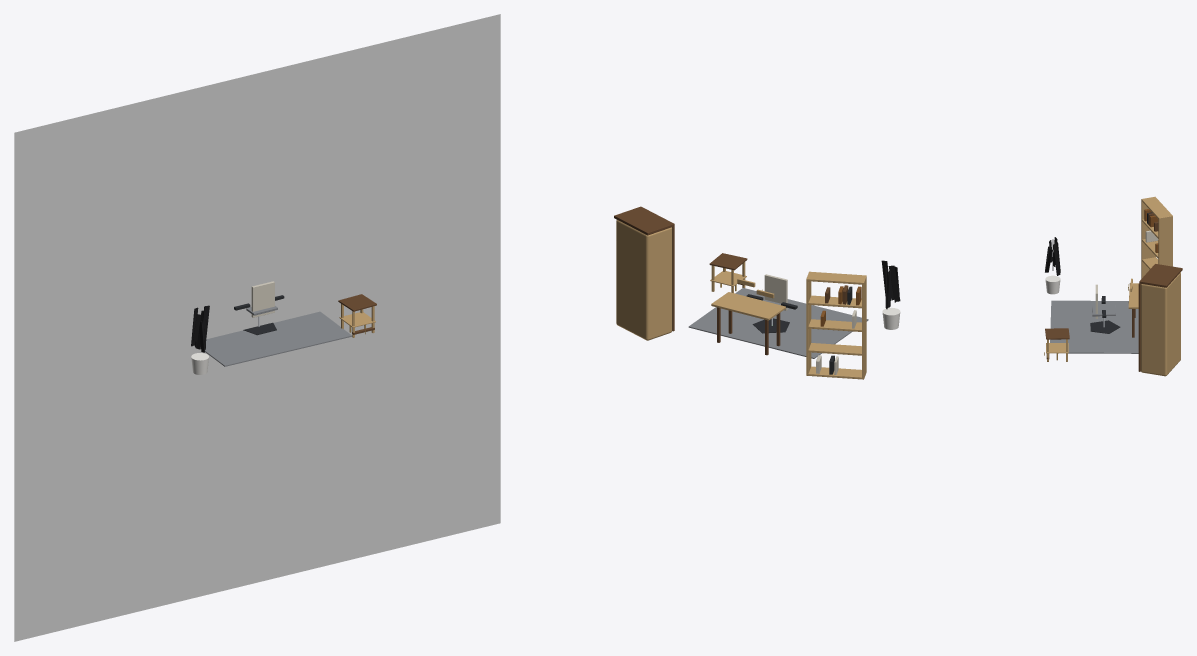
Rendered from home-office.glb.
3 renders of one model, left to right at view 1: azimuth 30°, elevation 25°; view 2: azimuth 150°, elevation 25°; view 3: azimuth 270°, elevation 25°, orthographic. The views are drawn at different scales.
Visible parts, largest first — view 1: object 1, object 2, object 12, object 23; view 2: object 33, object 12, object 13, object 44; view 3: object 12, object 33, object 46, object 44, object 45, object 51, object 24, object 62, object 35, object 72, object 13, object 22.
Boxes of the visible parts, x1,y1,x2,y2 form: object 1: (14, 14, 500, 641); object 2: (209, 223, 305, 390); object 12: (200, 311, 352, 366); object 23: (251, 281, 274, 317); object 33: (616, 220, 672, 340); object 12: (688, 288, 868, 358); object 13: (711, 292, 785, 320); object 44: (614, 206, 674, 235); object 12: (1050, 300, 1138, 353); object 33: (1140, 272, 1180, 376); object 46: (1158, 215, 1172, 266); object 44: (1139, 264, 1182, 287); object 45: (1141, 196, 1155, 278); object 51: (1142, 197, 1171, 218); object 24: (1090, 320, 1120, 333); object 62: (1045, 328, 1069, 339); object 35: (1138, 283, 1140, 371); object 72: (1045, 275, 1060, 294); object 13: (1128, 283, 1138, 308); object 22: (1092, 304, 1115, 316).
Size of the model in its own units: 10 by 10 by 2.92.
